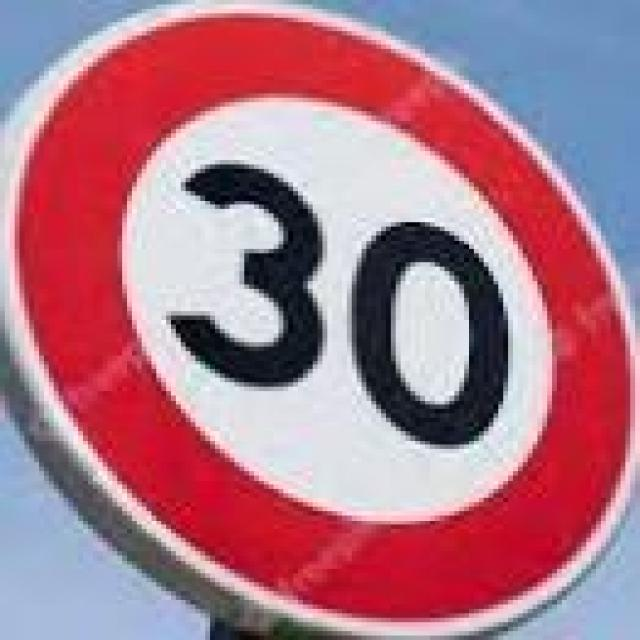traffic_sign: (0, 0, 625, 635)
